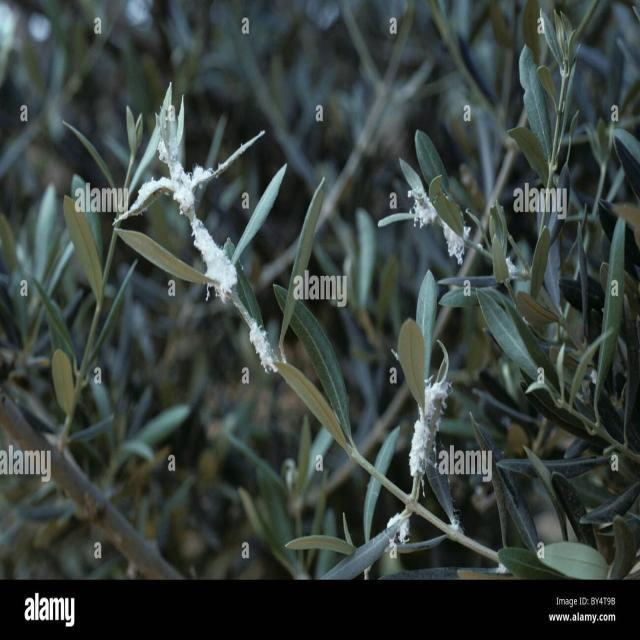Psyllid: (400, 159, 470, 265), (409, 371, 451, 498), (245, 313, 281, 372), (386, 506, 410, 558)
